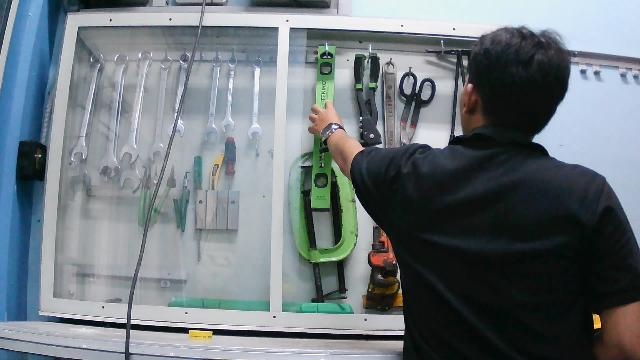water_pass: (308, 43, 339, 215)
